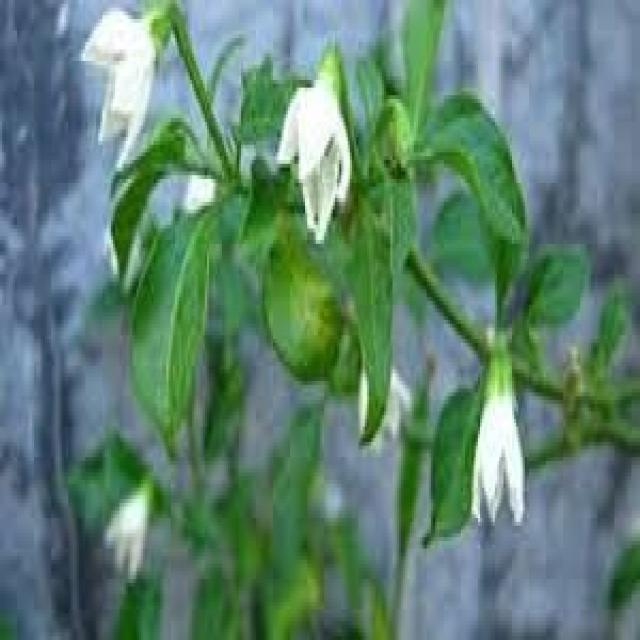sehat: (121, 194, 233, 462), (344, 195, 396, 448)
